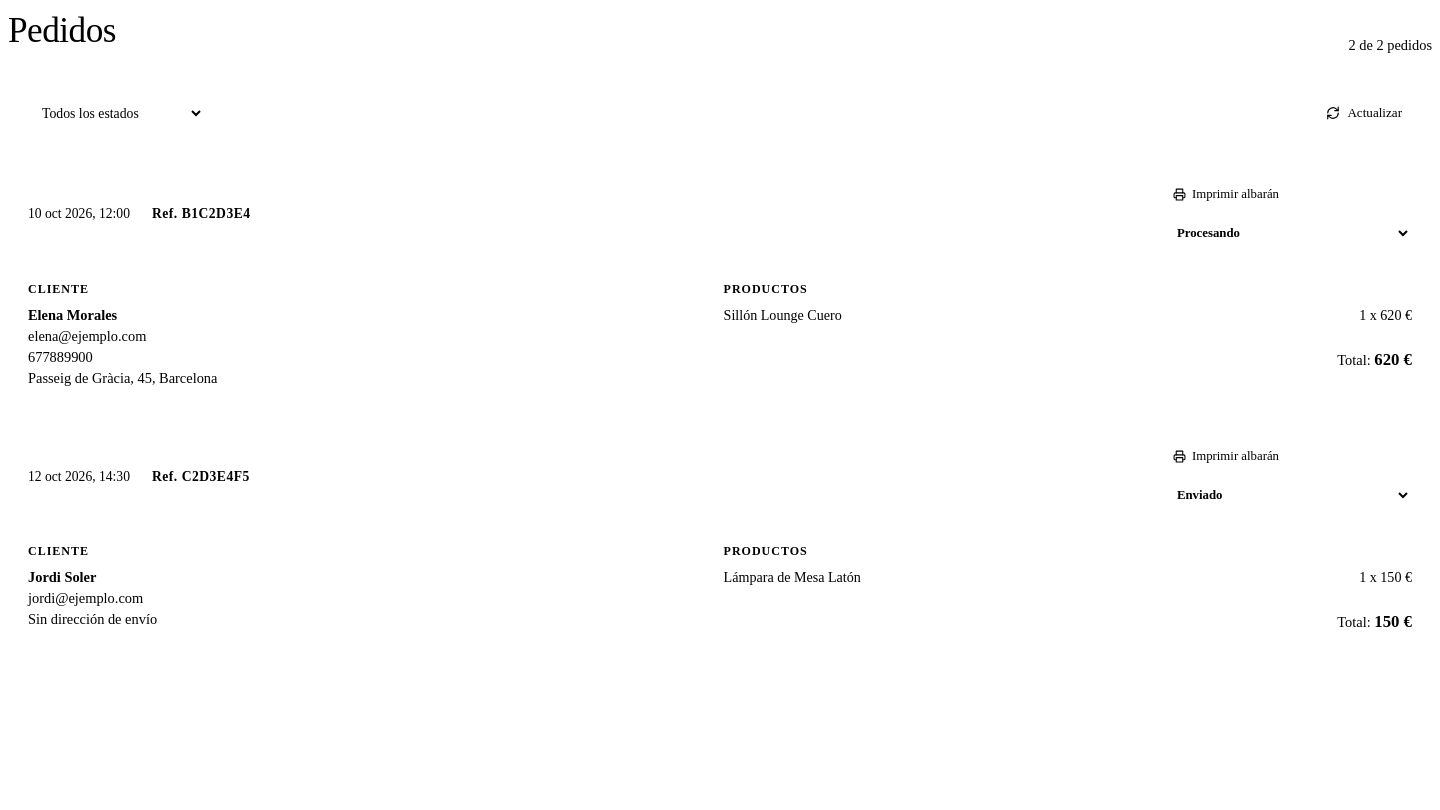
Test: PedidosTab — botón Imprimir albarán y VistaImpresion › pulsar "Imprimir albarán" abre la vista de impresión del pedido correspondiente
// Pulsamos el albarán del primer pedido (Elena Morales)
Click the 1st button "Imprimir albarán": (1226, 194) [1160,181,1292,208]
(page scrolled)
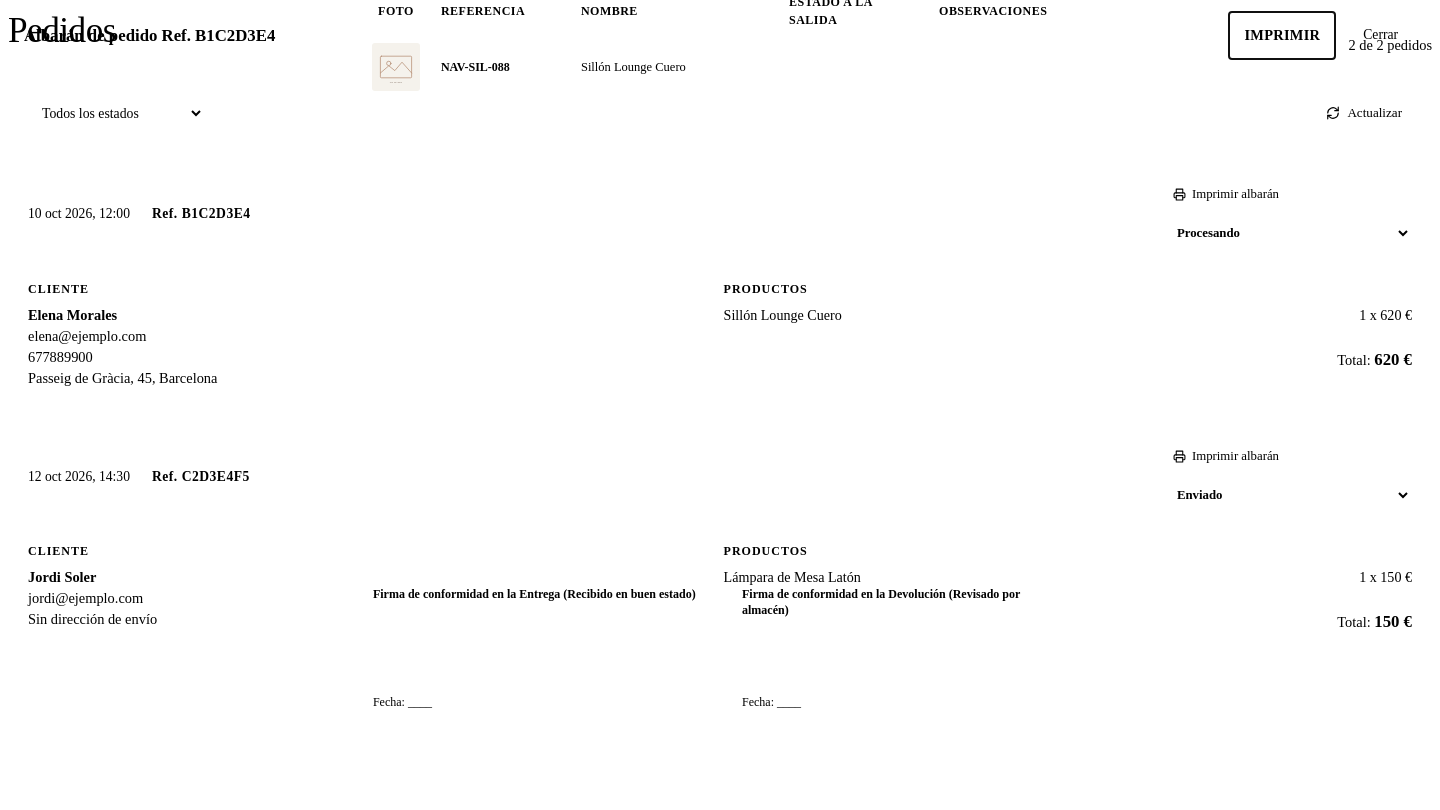
Check: the dialog is shown
Check: the heading "Albarán de pedido Ref. B1C2D3E4" is shown, box [24,26,275,46]
Check: the text "Sillón Lounge Cuero" is shown, box [581,60,686,74]
